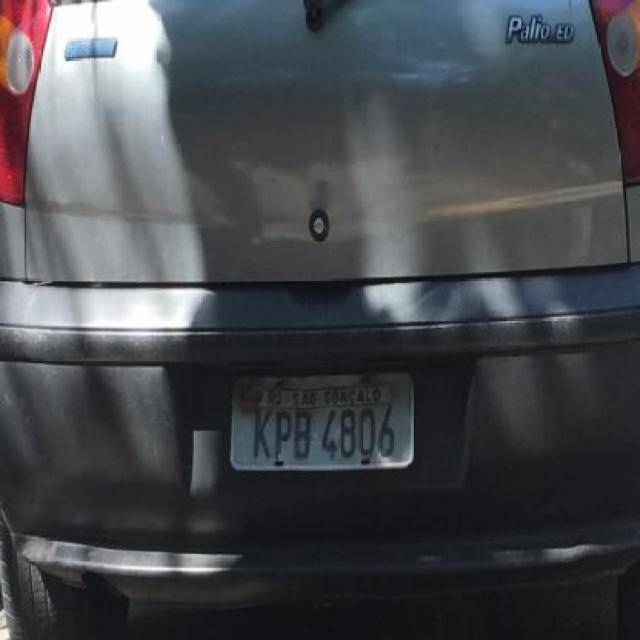old_plate: (226, 368, 424, 476)
